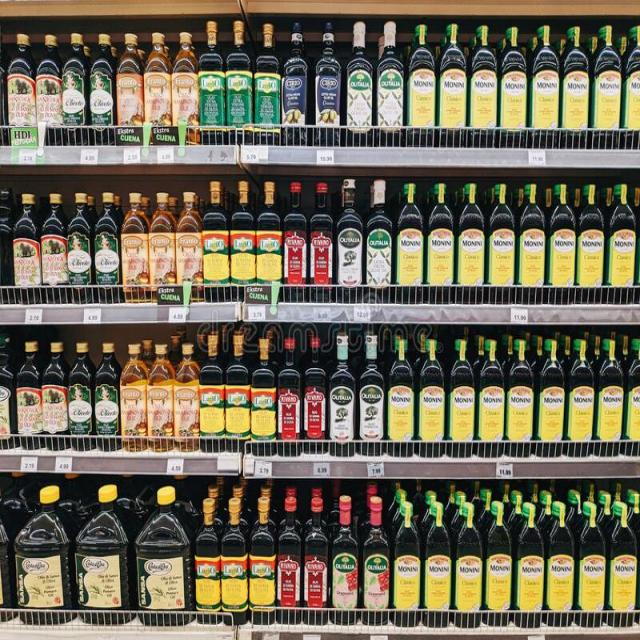Oil: (396, 483, 640, 613), (404, 20, 640, 133), (394, 185, 640, 292), (389, 346, 640, 446), (194, 484, 278, 609), (198, 19, 284, 130), (118, 338, 199, 452), (120, 190, 203, 300), (114, 31, 200, 133), (200, 182, 283, 286), (39, 343, 119, 450), (135, 485, 196, 614), (35, 34, 115, 132), (326, 331, 387, 455), (330, 489, 391, 613), (198, 359, 280, 451), (14, 486, 74, 610), (284, 19, 344, 141), (335, 179, 394, 301), (58, 191, 122, 302), (346, 21, 406, 137), (276, 490, 331, 612), (74, 492, 130, 611), (281, 178, 339, 289), (278, 331, 330, 454)
